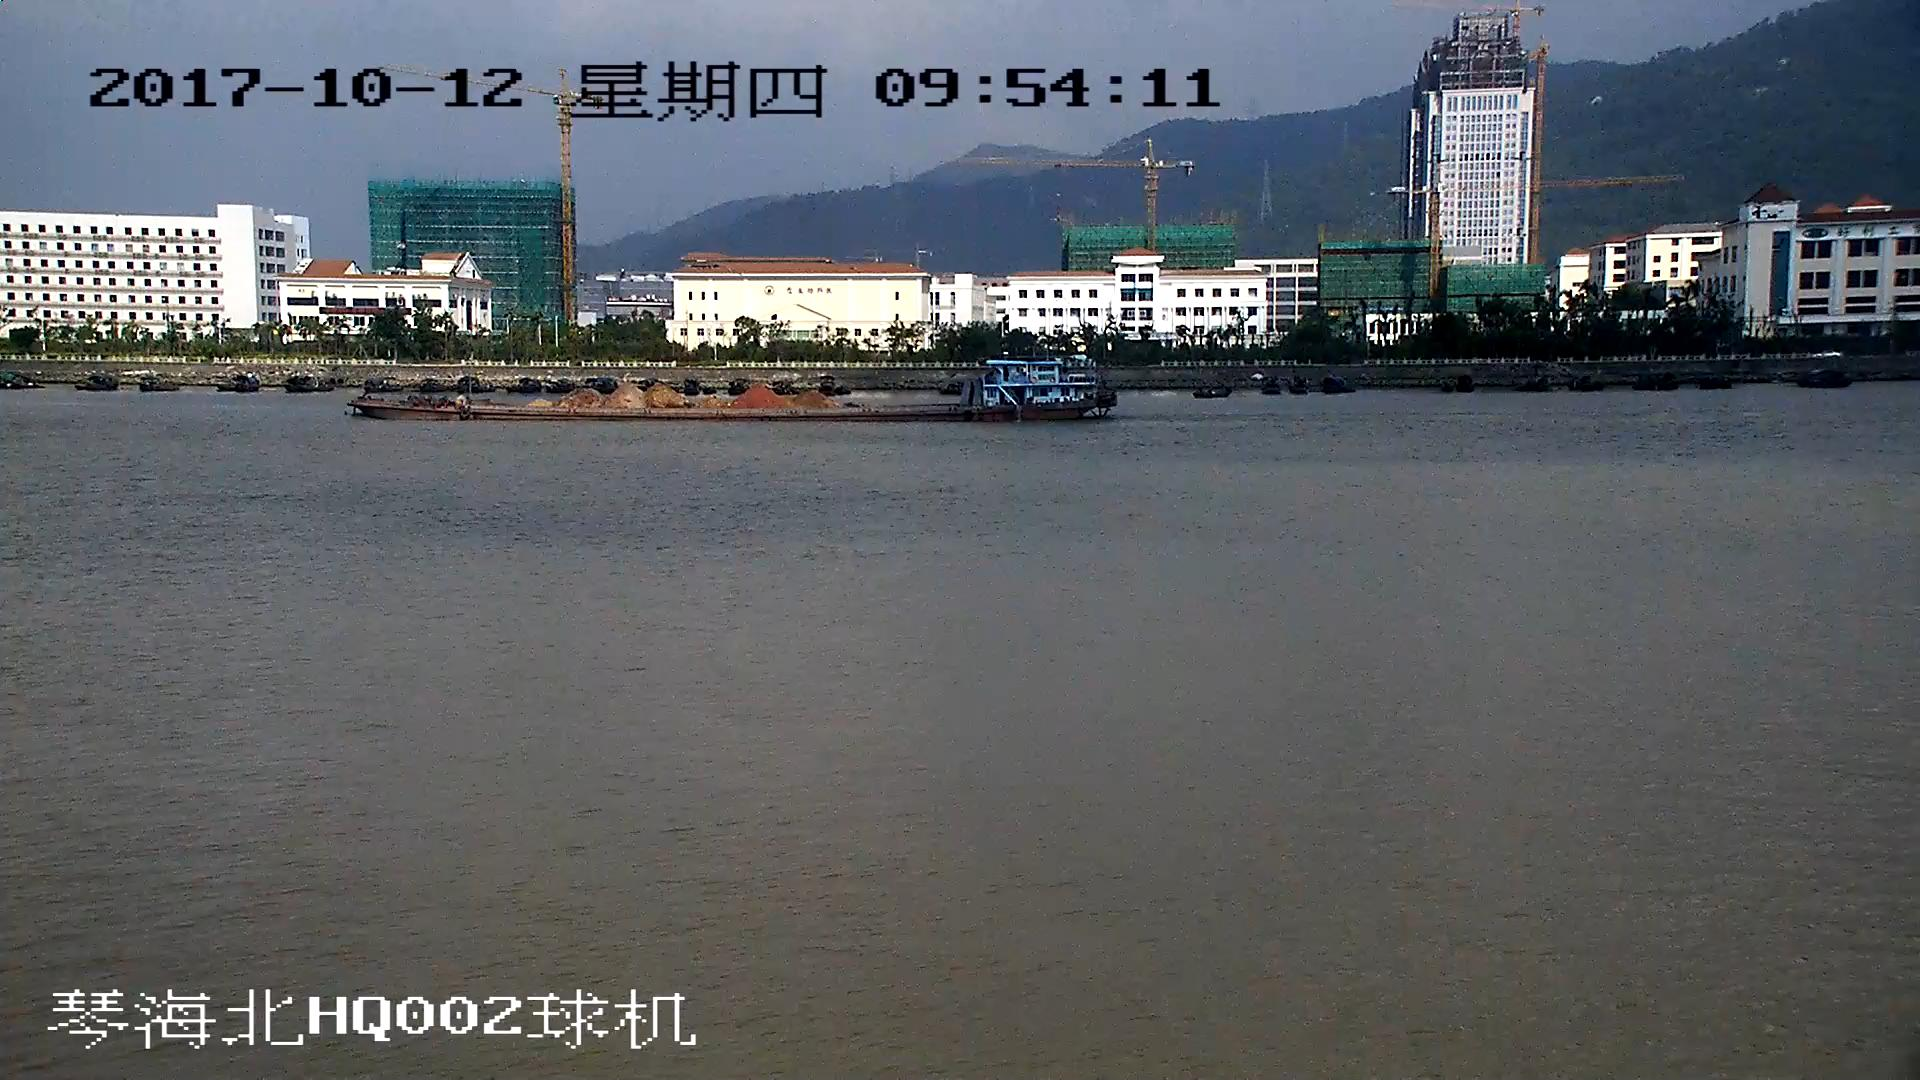ore carrier: (360, 352, 1112, 426)
